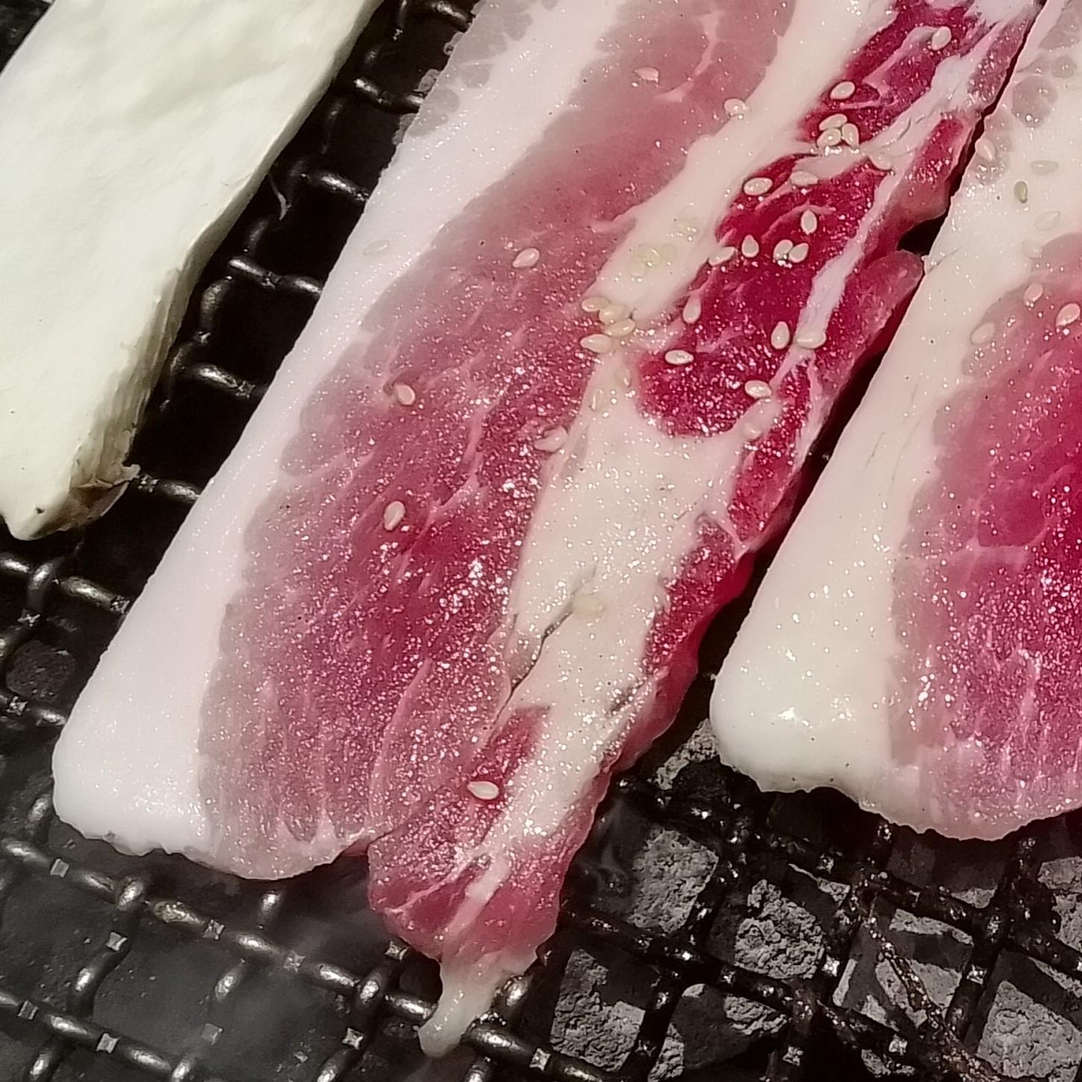Undercooked: (55, 0, 1081, 1054), (709, 0, 1081, 839)
